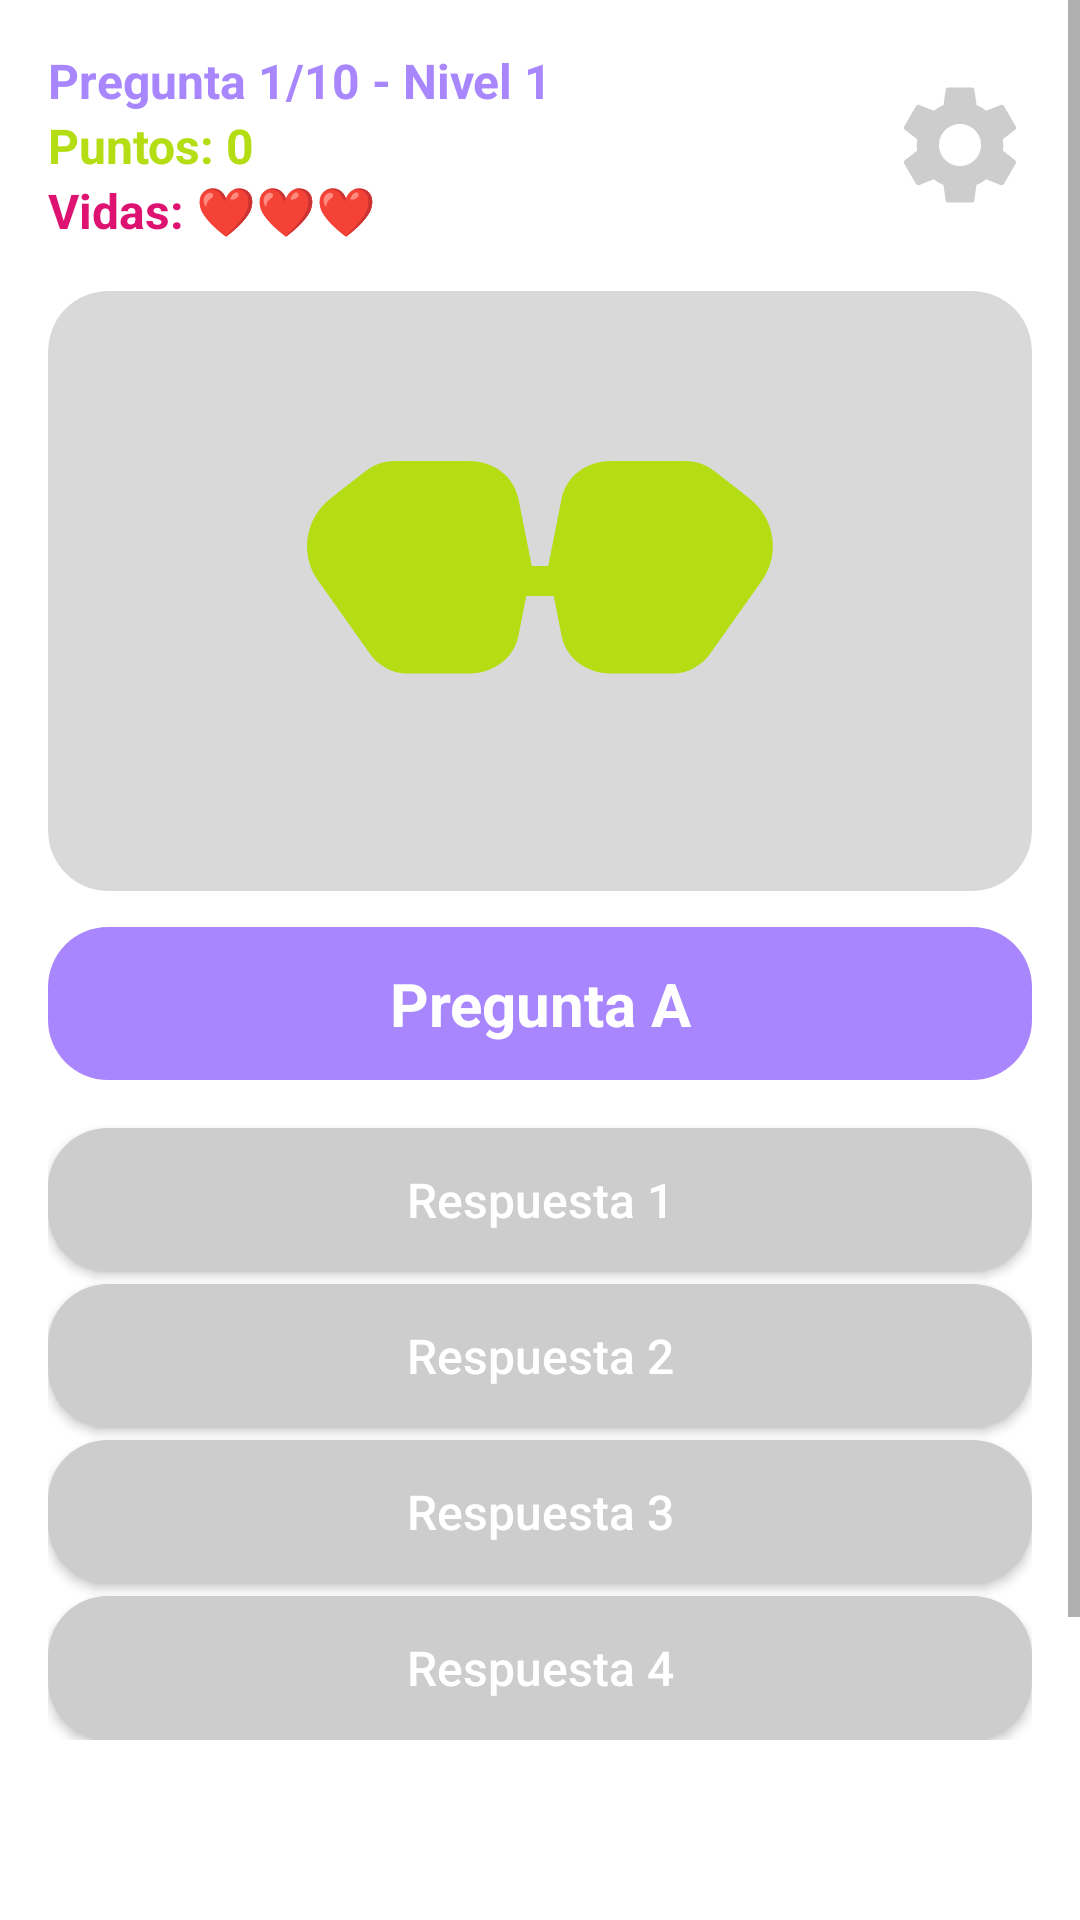

Named icons in this screenshot (1080x1920) and their bounding boxes, box=[x1, y1, x2, y2]:
Ajustes: box=[904, 87, 1016, 203]
